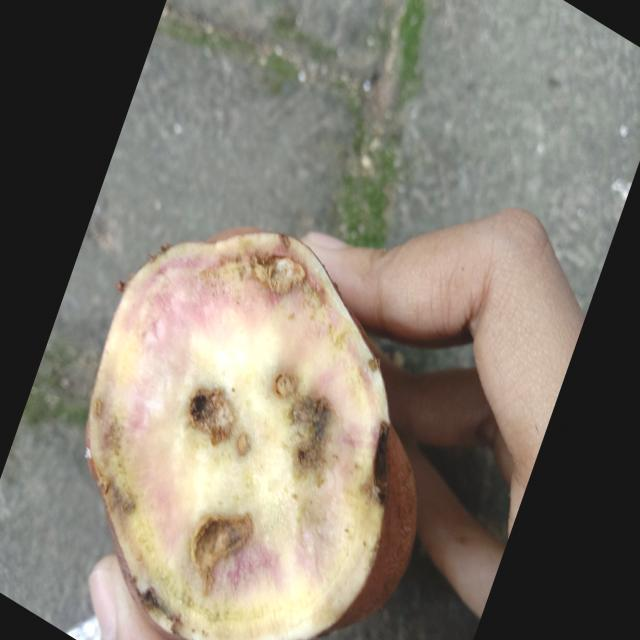Sick Sweet Potato_Tuber Rot: (86, 232, 416, 638)
